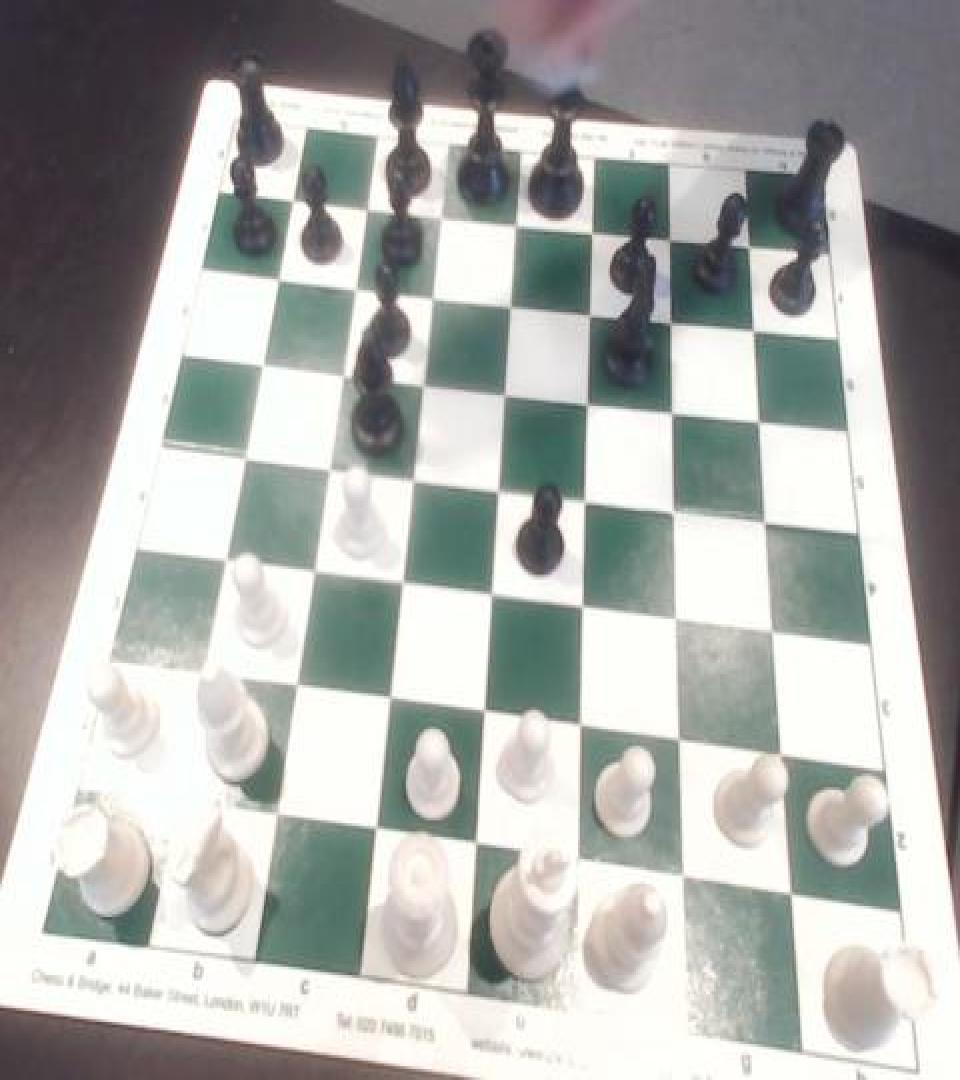xcorner: (262, 254, 292, 296), (184, 653, 214, 695), (353, 182, 383, 224), (341, 262, 371, 304), (327, 349, 357, 391), (279, 667, 309, 709), (410, 359, 440, 401), (388, 562, 418, 604), (375, 679, 405, 721), (360, 812, 390, 854), (499, 280, 529, 322), (480, 574, 510, 616), (472, 693, 502, 735), (463, 827, 493, 869), (581, 207, 611, 249), (577, 378, 607, 420), (570, 707, 600, 749), (567, 842, 597, 884), (659, 215, 689, 257), (661, 298, 691, 340), (663, 389, 693, 431), (749, 399, 779, 441), (762, 610, 792, 652), (778, 874, 808, 916), (278, 174, 308, 215), (246, 340, 276, 381), (227, 434, 257, 475), (207, 539, 237, 580), (159, 782, 189, 823), (313, 445, 343, 486), (297, 550, 327, 591), (259, 797, 289, 838), (428, 191, 458, 232), (419, 271, 449, 312), (399, 456, 429, 497), (504, 199, 534, 240), (493, 369, 523, 410), (487, 467, 517, 508), (580, 289, 610, 330), (575, 478, 605, 519), (573, 586, 603, 627), (665, 489, 695, 530), (667, 598, 697, 639), (669, 721, 699, 762), (672, 858, 702, 899), (738, 224, 768, 265), (743, 308, 773, 349), (755, 500, 785, 541), (770, 735, 800, 776)
